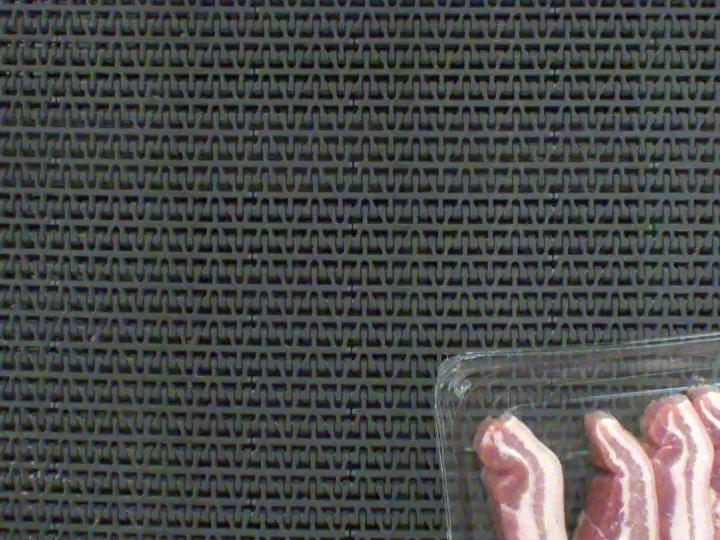loose-meat: (483, 405, 581, 540)
